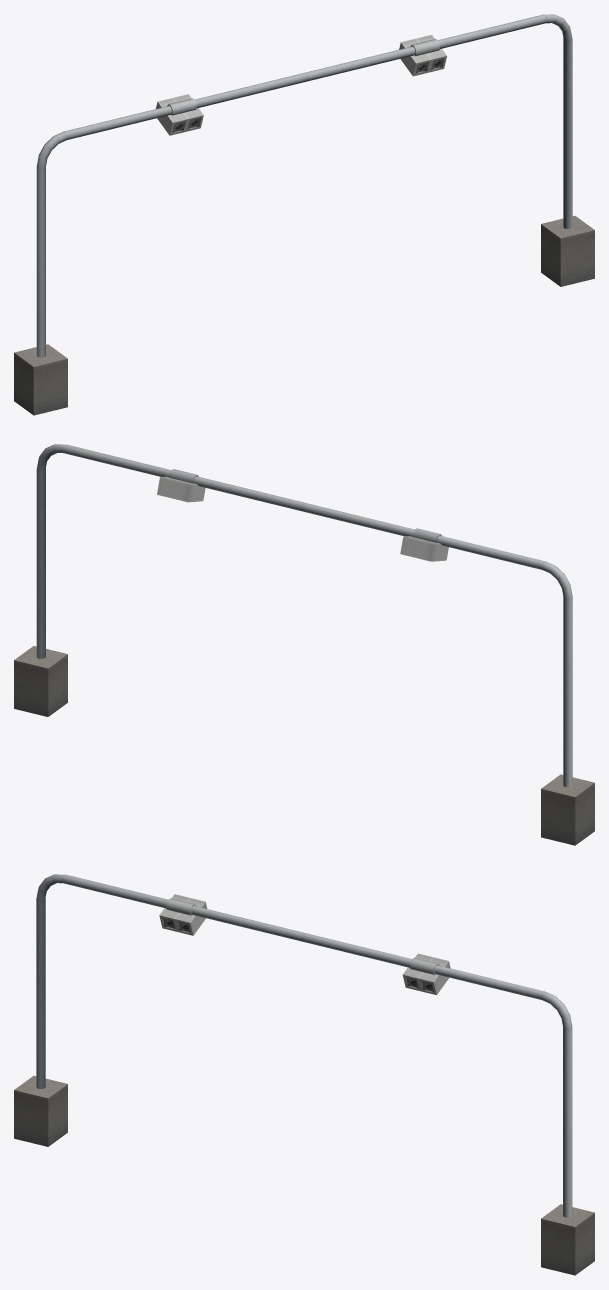
Rendered from TrafficCamera.FBX.
The picture shows the model from 3 angles, top to bottom: view 1: azimuth 30°, elevation 25°; view 2: azimuth 150°, elevation 25°; view 3: azimuth 330°, elevation 25°; orthographic projection.
Parts seen in each view (by area): view 1: Pillar, Block (×2), Camera (×2); view 2: Pillar, Block (×2), Camera (×2); view 3: Pillar, Block (×2), Camera (×2).
Boxes of the visible parts, box(x1,y1,x2,y2) form: Pillar: box(36, 14, 572, 357); Block (×2): box(14, 215, 594, 415); Camera (×2): box(156, 34, 446, 135); Pillar: box(36, 444, 572, 787); Block (×2): box(14, 646, 594, 845); Camera (×2): box(157, 469, 448, 561); Pillar: box(36, 874, 572, 1217); Block (×2): box(14, 1075, 594, 1275); Camera (×2): box(159, 894, 450, 995).
Bounding box in the file's own units: 484 × 221 × 32.1.
